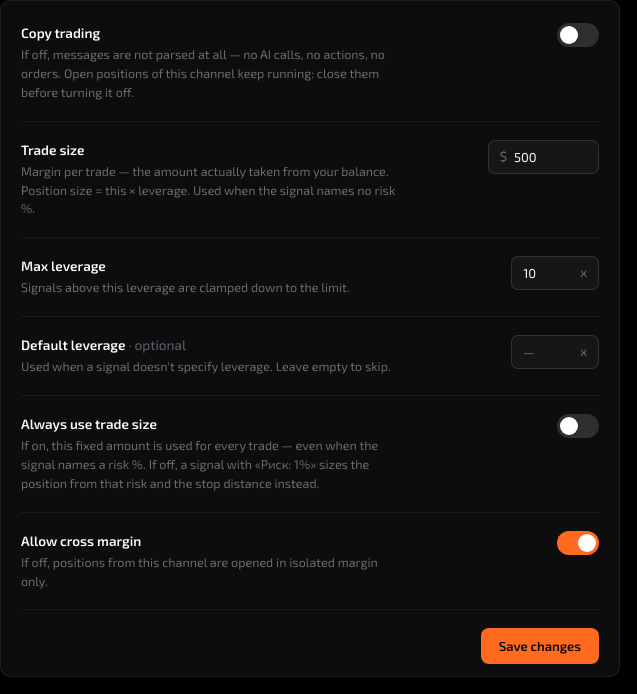
it: ChannelSettings (Settings-таб канала) › Save включает Copy trading, меняет Trade size на 300, шлёт PATCH с изменёнными полями и показывает "Saved"
Click the switch named "Copy trading" at (578, 35), box [557,23,599,47]
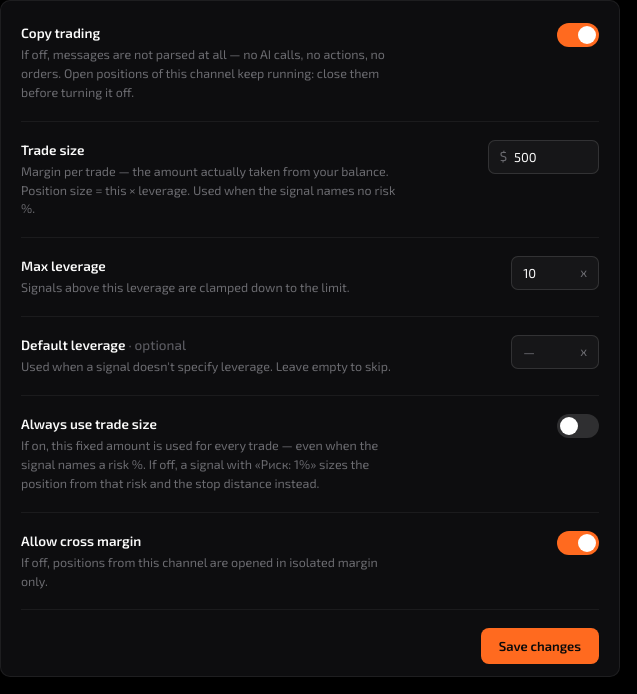
Replace the text in the number field named "Trade size" with "300" at (554, 156), box [510,140,598,172]
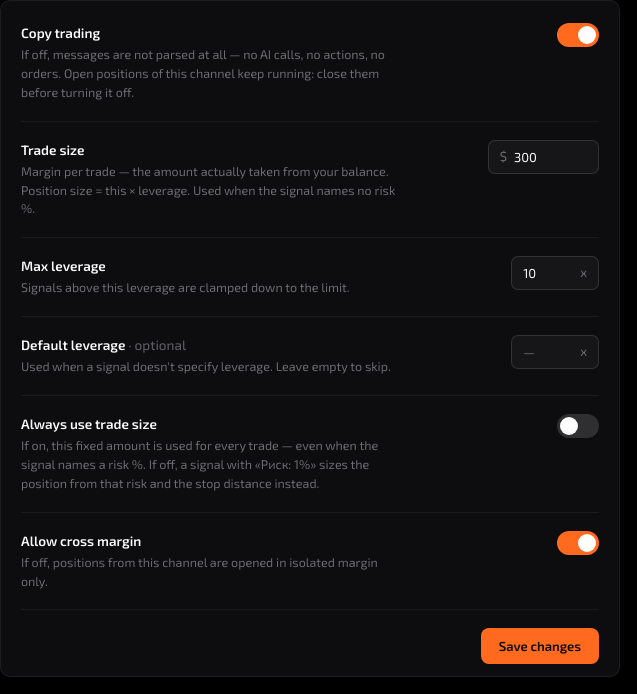
Click the button "Save changes" at (540, 646), box [481,628,599,664]
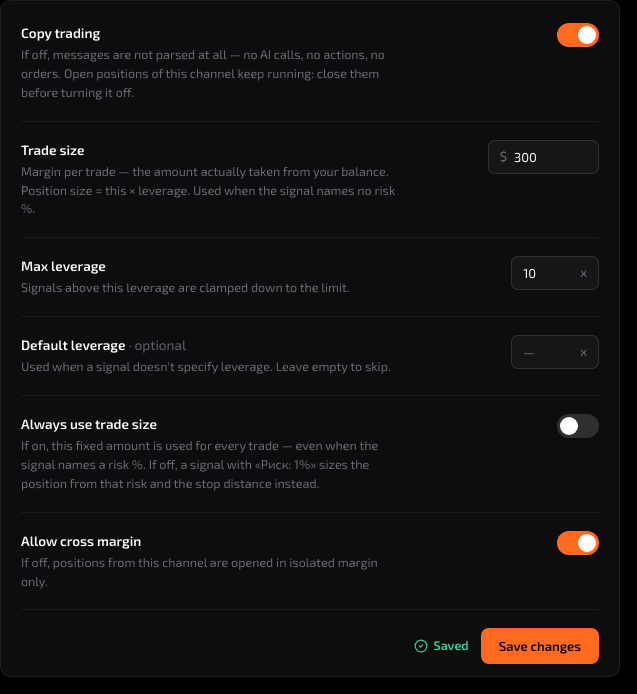
Expected: the text "Saved" is shown, [414,637,469,656]
